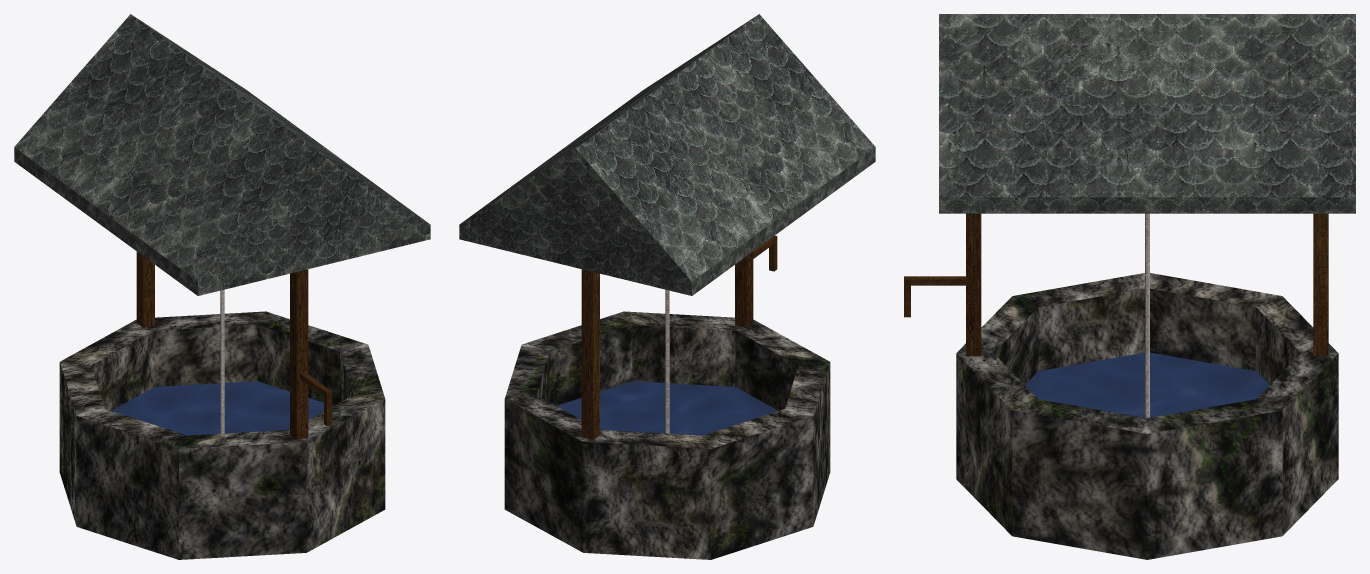
File: Well.glb
3 views of the same model, side by side, from view 1: azimuth 30°, elevation 25°; view 2: azimuth 150°, elevation 25°; view 3: azimuth 270°, elevation 25° (orthographic). The views are drawn at different scales.
Parts seen in each view (by area): view 1: Well, BucketNRope, Handle; view 2: Well, BucketNRope; view 3: Well, BucketNRope, Handle.
Part boxes in pixels (x1,y1,x2,y2): Well: (14,14,430,559); BucketNRope: (220,289,224,433); Handle: (299,372,332,426); Well: (459,14,875,559); BucketNRope: (665,289,669,433); Well: (939,14,1355,559); BucketNRope: (1145,213,1149,417); Handle: (904,276,965,317).
Bounding box in the file's own units: 1.1 × 1.48 × 1.3.
7 materials, 7 textured.
